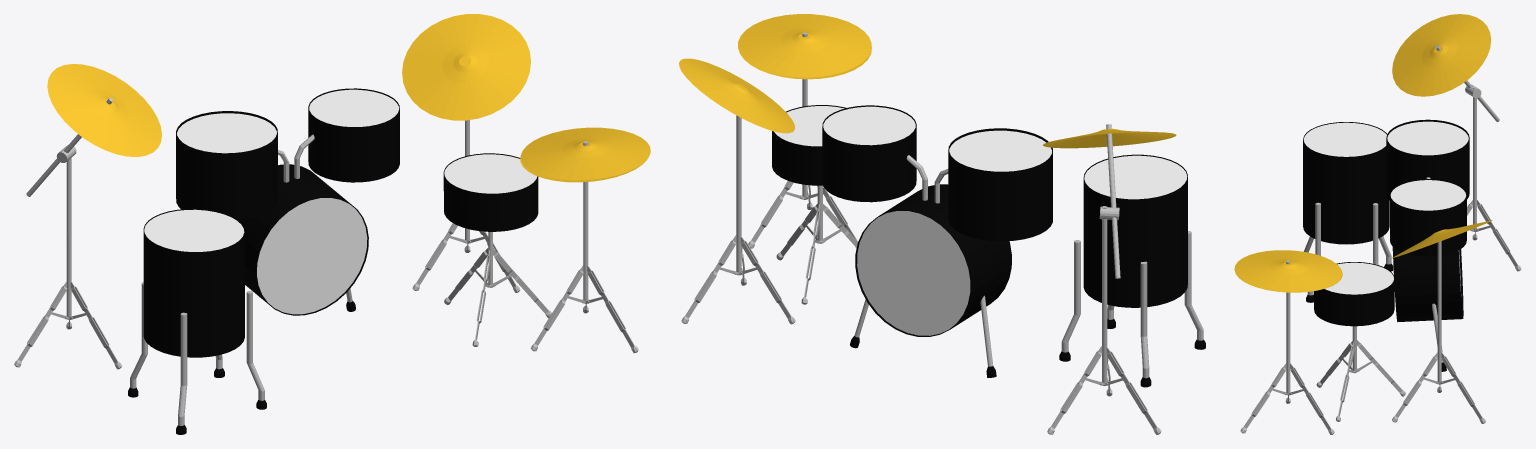
Rendered from drumkit 1.fbx.
3 views of the same model, side by side, from view 1: azimuth 30°, elevation 25°; view 2: azimuth 150°, elevation 25°; view 3: azimuth 270°, elevation 25° (orthographic). The views are drawn at different scales.
Visible parts, largest first — view 1: Drumkit V2; view 2: Drumkit V2; view 3: Drumkit V2.
Boxes of the visible parts, x1=… form: Drumkit V2: x1=14, y1=14, x2=650, y2=434; Drumkit V2: x1=679, y1=14, x2=1205, y2=434; Drumkit V2: x1=1234, y1=14, x2=1521, y2=434.
Size of the model in its own units: 266 by 143 by 155.
